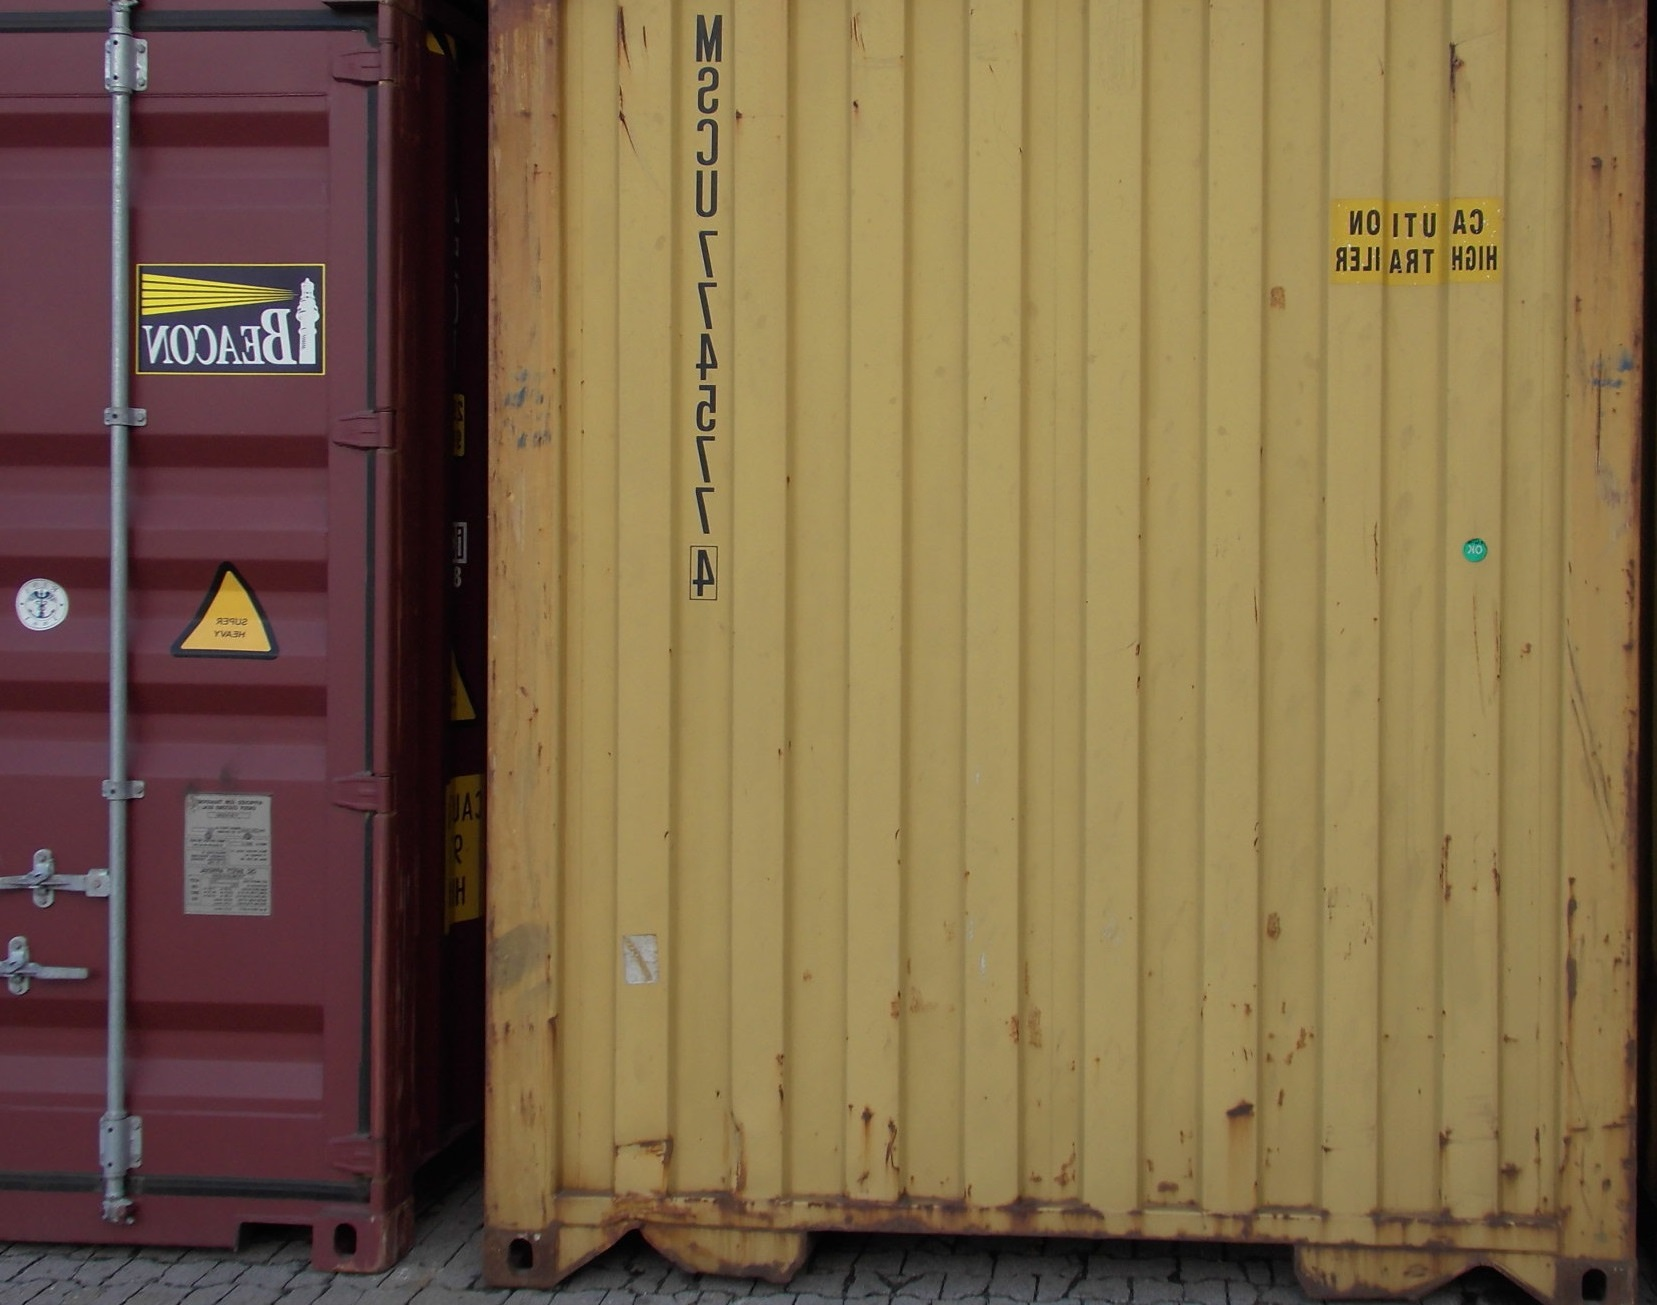container_door: (11, 9, 383, 1262)
container_no_door: (486, 9, 1642, 1288)
